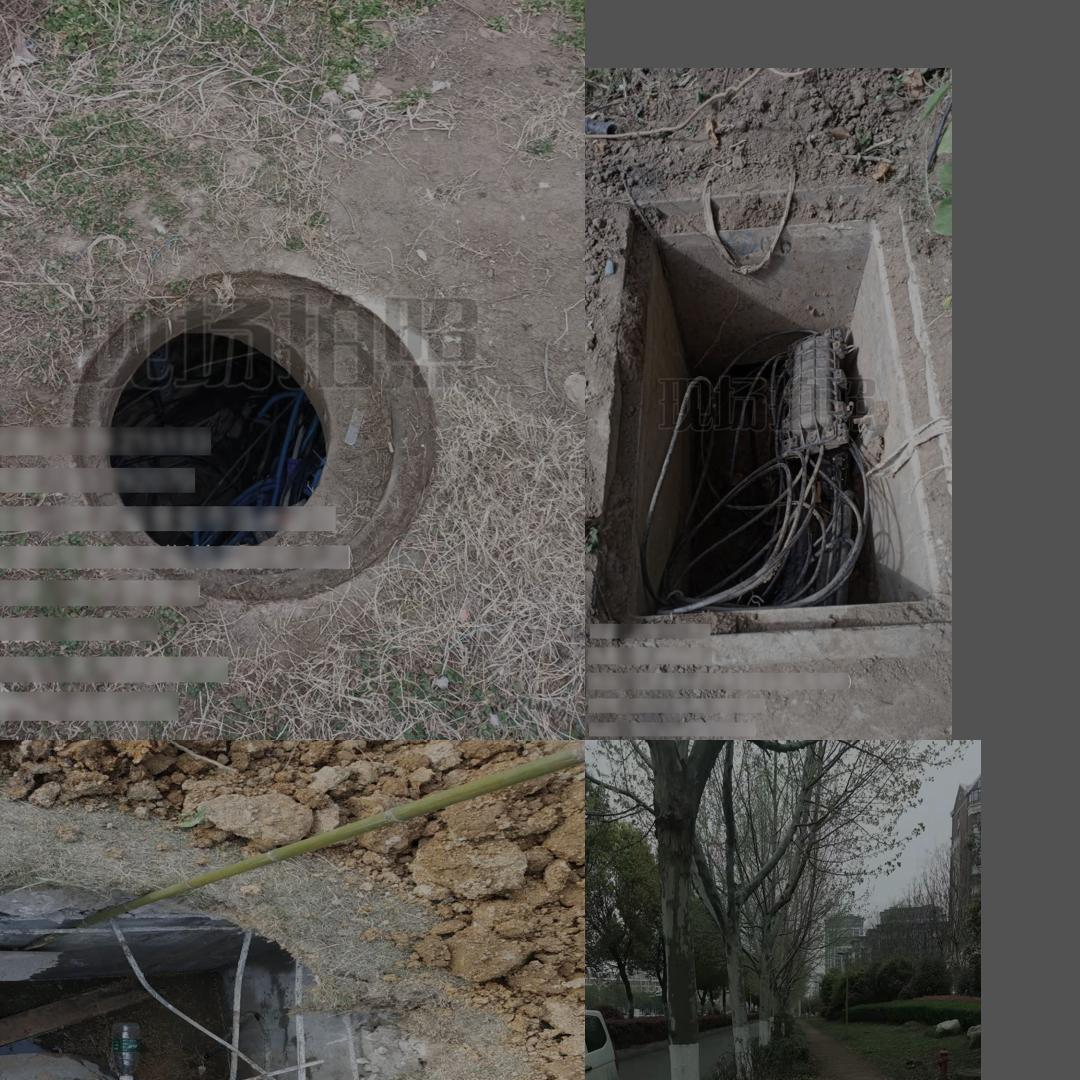lose: (596, 166, 944, 651), (53, 266, 473, 599), (0, 874, 520, 1080)
